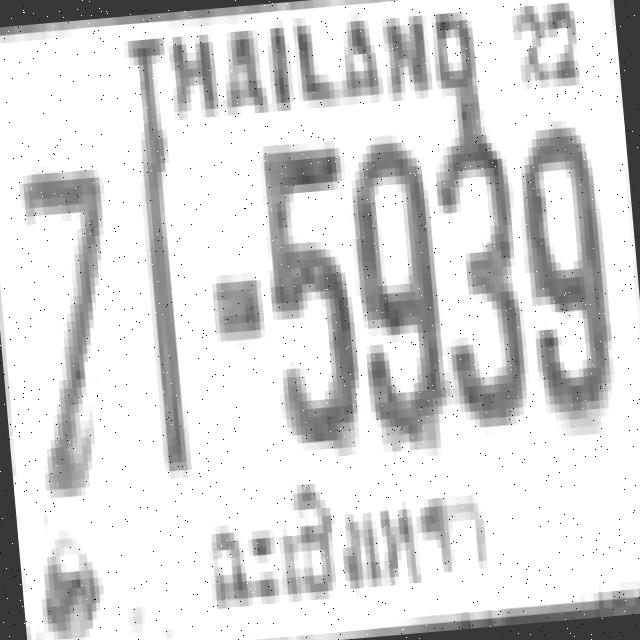3: (426, 117, 528, 420)
5: (252, 127, 360, 449)
7: (11, 152, 126, 490)
9: (344, 124, 447, 445), (511, 109, 614, 422)
Chachoengsao: (196, 458, 506, 619)
